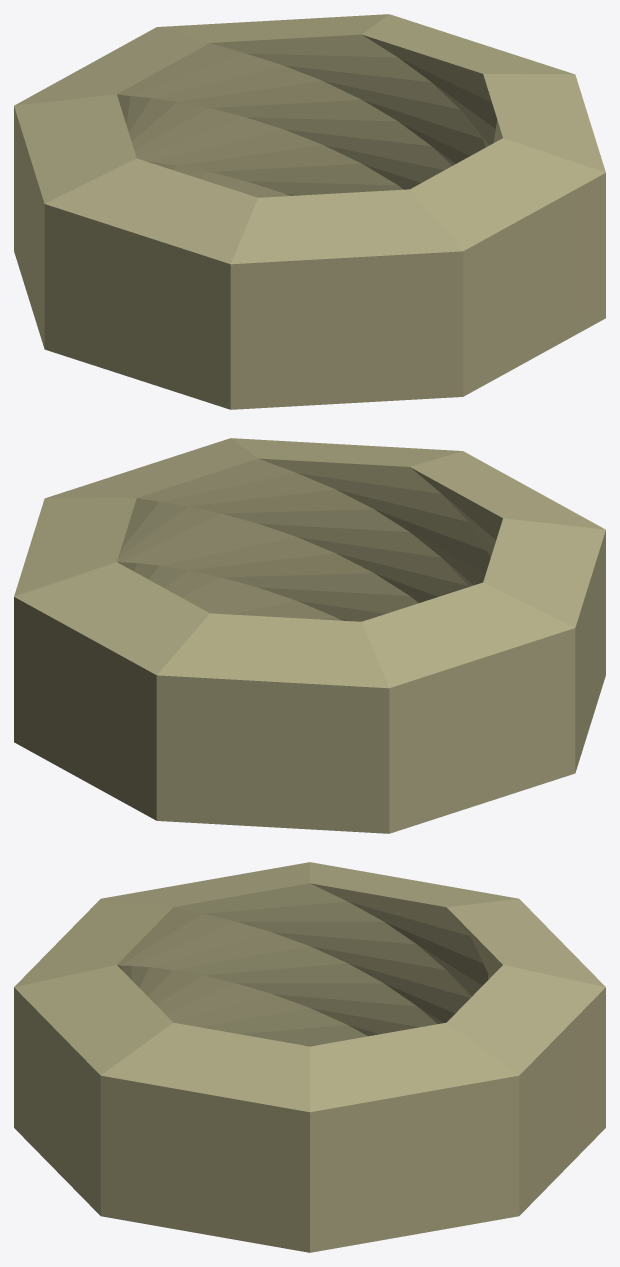
The model's file is Nut.glb.
3 renders of one model, top to bottom at view 1: azimuth 30°, elevation 25°; view 2: azimuth 150°, elevation 25°; view 3: azimuth 270°, elevation 25°, orthographic. The views are drawn at different scales.
Parts seen in each view (by area): view 1: Nut; view 2: Nut; view 3: Nut.
Part boxes in pixels (bbox=[...]): Nut: bbox=[14, 14, 605, 409]; Nut: bbox=[14, 438, 605, 833]; Nut: bbox=[14, 862, 605, 1252].
Bounding box in the file's own units: 1 × 0.3473 × 1.
